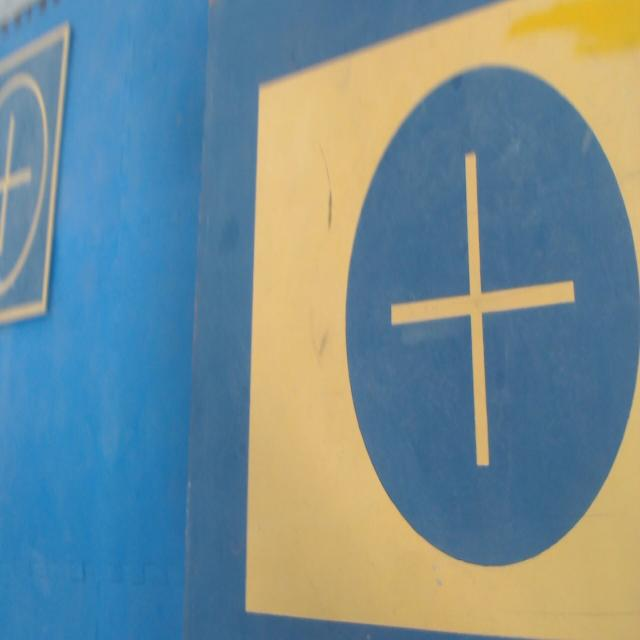base_inicio: (245, 0, 640, 639)
base_pouso: (0, 19, 70, 326)
